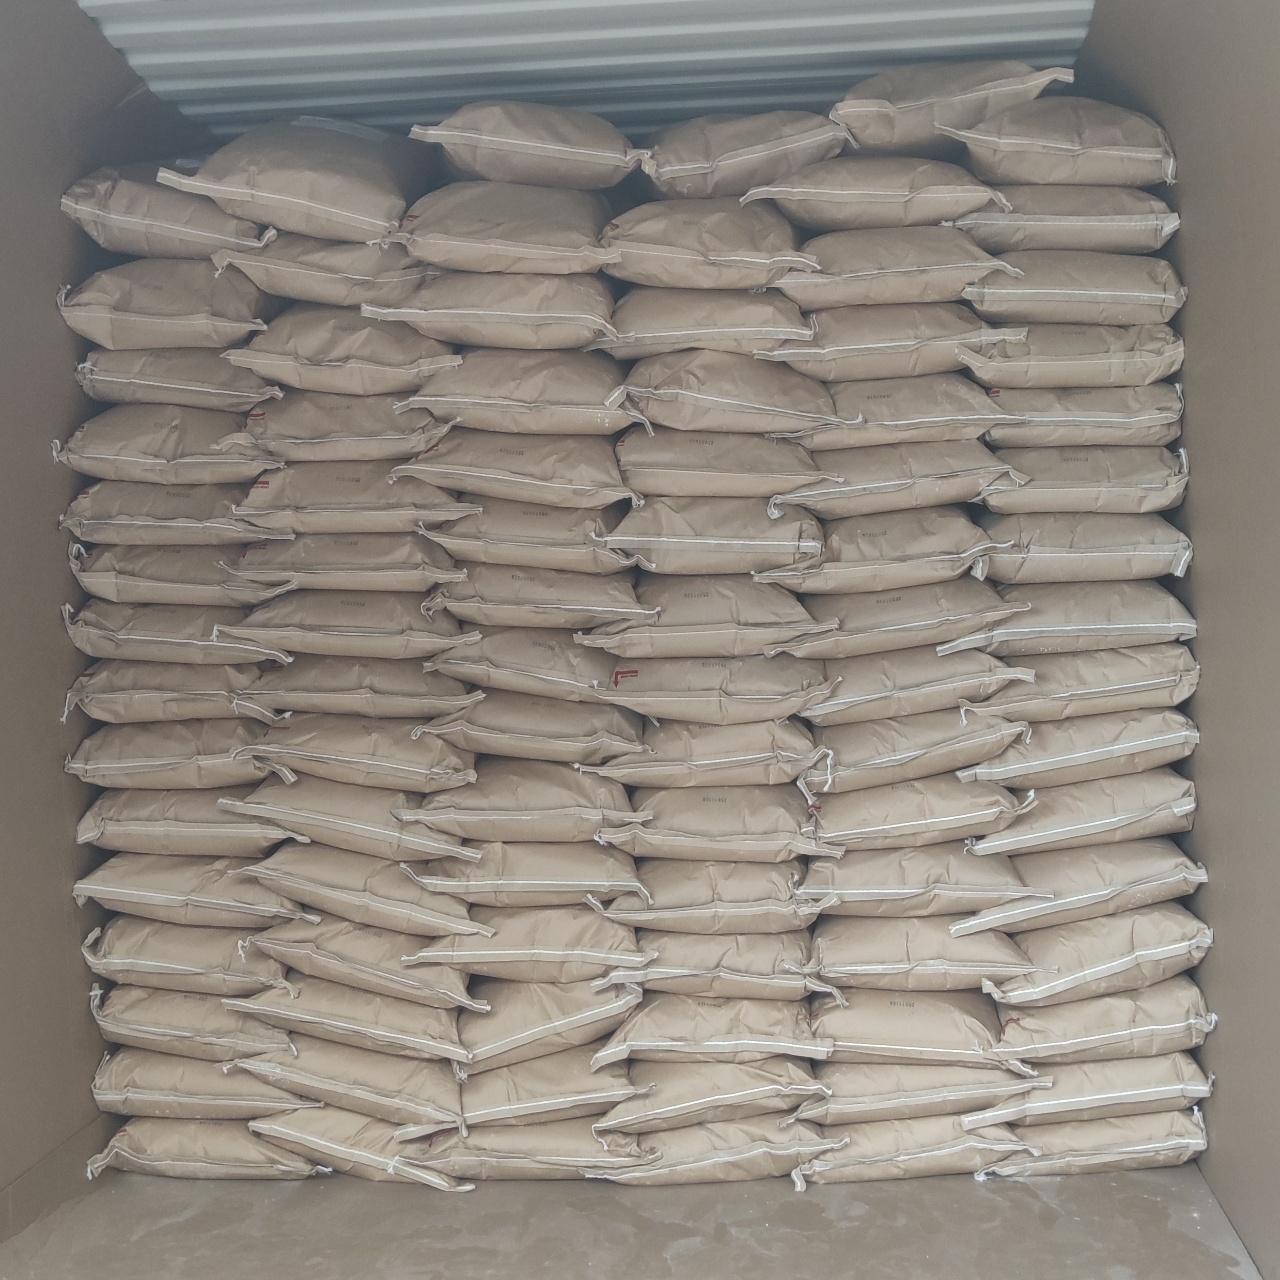sack: (160, 120, 434, 238), (394, 1041, 647, 1142), (952, 838, 1204, 934), (984, 900, 1210, 1006), (242, 912, 486, 1010), (240, 842, 482, 934), (240, 1034, 462, 1132), (830, 60, 1066, 152), (222, 774, 472, 860), (770, 226, 1012, 310), (414, 102, 644, 190), (944, 96, 1174, 184), (576, 574, 824, 654), (226, 972, 462, 1056), (760, 304, 1020, 380), (60, 258, 278, 348), (228, 304, 456, 390), (406, 348, 644, 430), (364, 270, 614, 348), (802, 708, 1028, 794), (968, 768, 1194, 854), (994, 974, 1214, 1062), (758, 506, 988, 590), (394, 182, 612, 270), (772, 440, 1022, 516), (408, 756, 638, 838), (780, 578, 1026, 654), (744, 156, 996, 230), (808, 988, 1030, 1072), (960, 710, 1198, 788), (394, 428, 638, 504), (62, 170, 272, 258), (602, 198, 810, 286), (942, 582, 1196, 654), (598, 784, 838, 860), (964, 1052, 1210, 1126), (252, 1106, 468, 1190), (798, 840, 1048, 912), (770, 372, 1006, 448), (412, 906, 644, 982), (804, 646, 1028, 724), (640, 112, 848, 196), (456, 980, 638, 1076), (962, 644, 1198, 718), (592, 928, 840, 998), (244, 714, 472, 790), (74, 854, 314, 926), (592, 1114, 846, 1182), (612, 352, 830, 430), (792, 1114, 1034, 1184), (234, 460, 468, 532), (594, 992, 828, 1064), (594, 860, 828, 932), (600, 1058, 826, 1132), (578, 718, 822, 786), (806, 774, 1030, 848), (806, 916, 1036, 988), (416, 690, 644, 762), (82, 914, 286, 994), (52, 406, 276, 478), (608, 496, 820, 572), (420, 496, 632, 572), (976, 1108, 1206, 1178), (214, 232, 436, 304), (218, 390, 446, 460), (94, 1046, 314, 1118), (586, 288, 812, 358), (790, 1062, 1044, 1124), (92, 984, 294, 1060), (966, 250, 1184, 320), (78, 788, 300, 856), (426, 562, 654, 628), (618, 426, 832, 496), (952, 186, 1178, 252), (64, 598, 290, 664), (230, 590, 462, 654), (410, 842, 644, 904), (66, 720, 292, 784), (424, 626, 614, 702), (244, 654, 476, 716), (64, 660, 288, 724), (980, 514, 1190, 582), (88, 1118, 326, 1178), (412, 1118, 650, 1178), (62, 480, 292, 542), (608, 654, 828, 718), (70, 544, 290, 604), (982, 446, 1188, 510), (966, 324, 1182, 384), (232, 534, 460, 590), (78, 348, 282, 410), (986, 380, 1182, 444)
